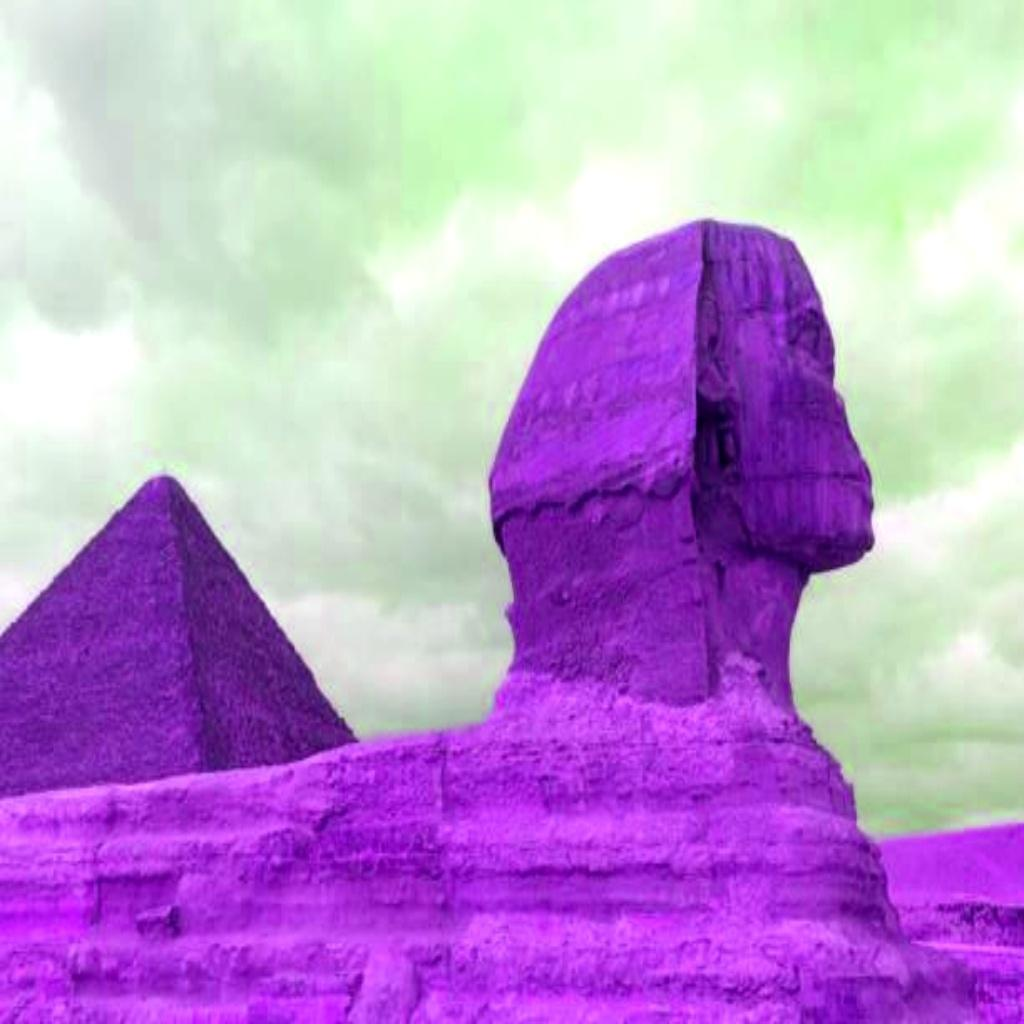Sphinx: (0, 214, 994, 1022)
